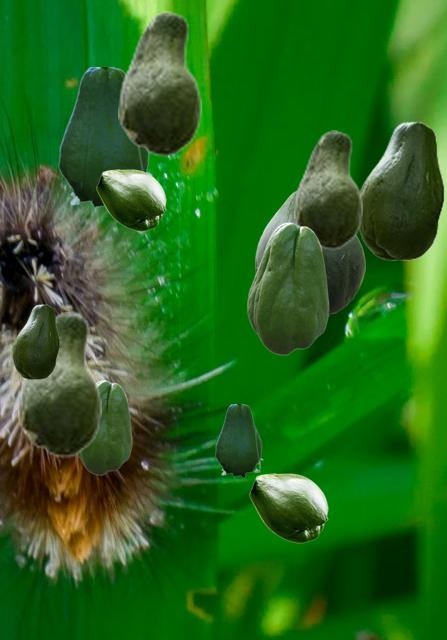sayote: (255, 191, 364, 316), (58, 67, 151, 212), (118, 11, 200, 156), (18, 312, 100, 457), (359, 121, 443, 259), (247, 222, 328, 354), (294, 130, 361, 249), (249, 473, 327, 542), (77, 380, 131, 474), (96, 169, 165, 230), (215, 404, 262, 478), (12, 304, 58, 378)
